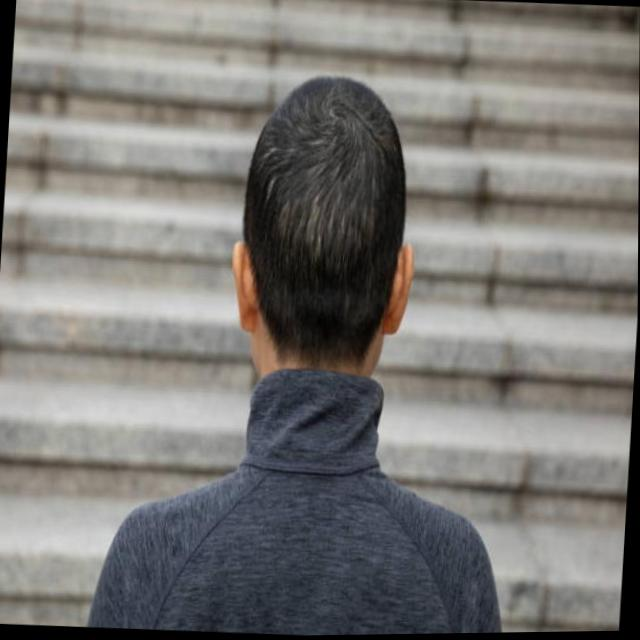no helmet: (229, 64, 443, 414)
